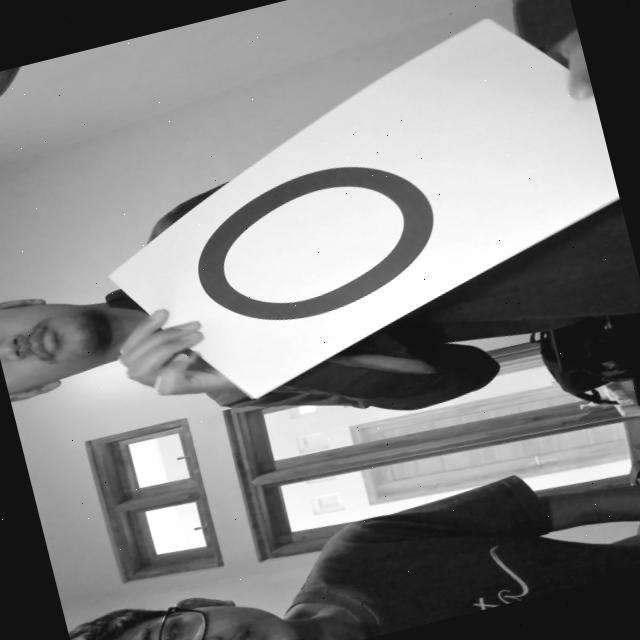o: (162, 134, 461, 345)
